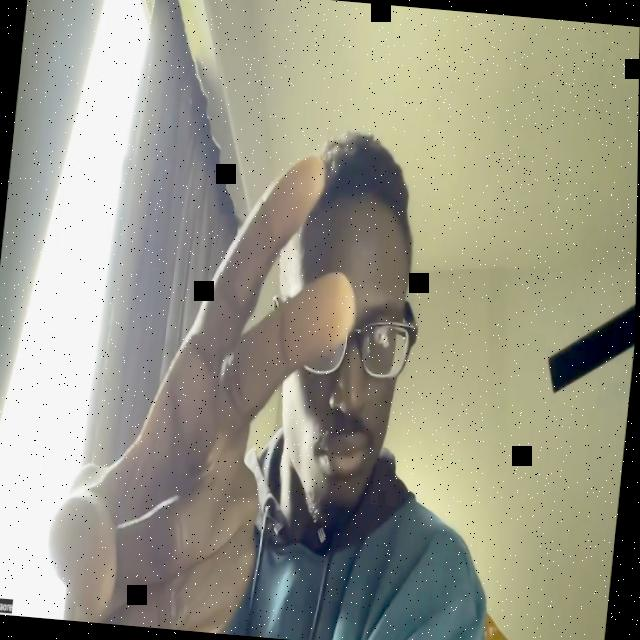Scissors: (37, 134, 371, 640)
